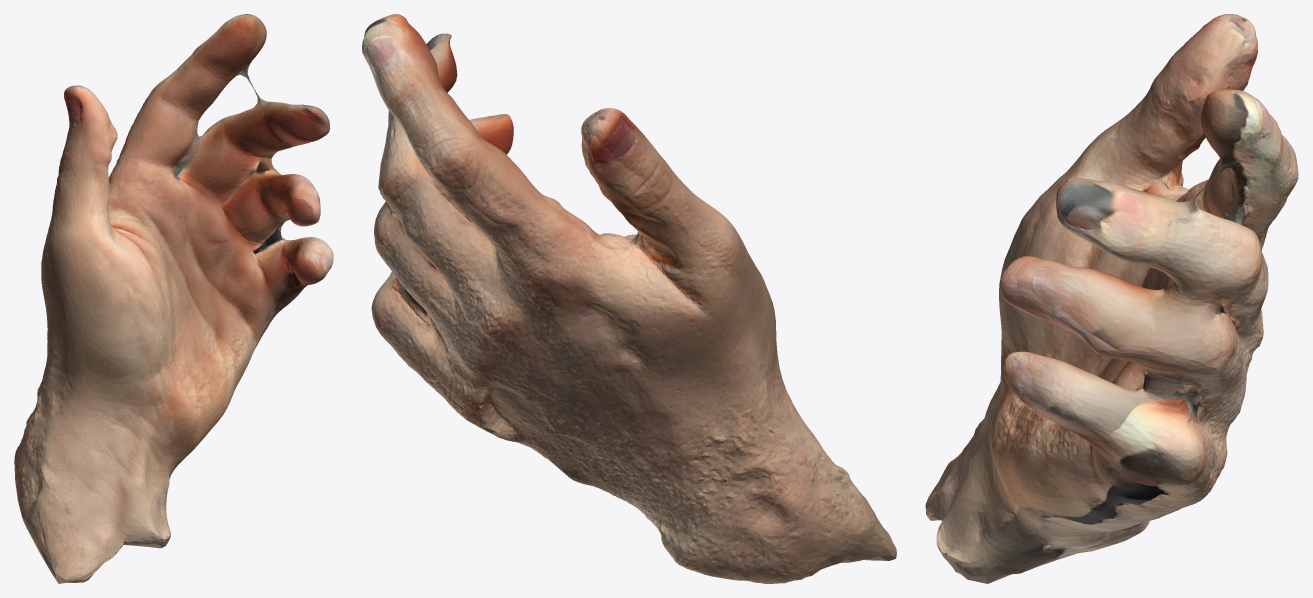
The picture shows the model from 3 angles, left to right: view 1: azimuth 30°, elevation 25°; view 2: azimuth 150°, elevation 25°; view 3: azimuth 270°, elevation 25°; orthographic projection. The views are drawn at different scales.
Size of the model in its own units: 0.1503 by 0.1879 by 0.1033.
Materials: 1 (1 with a texture image).
